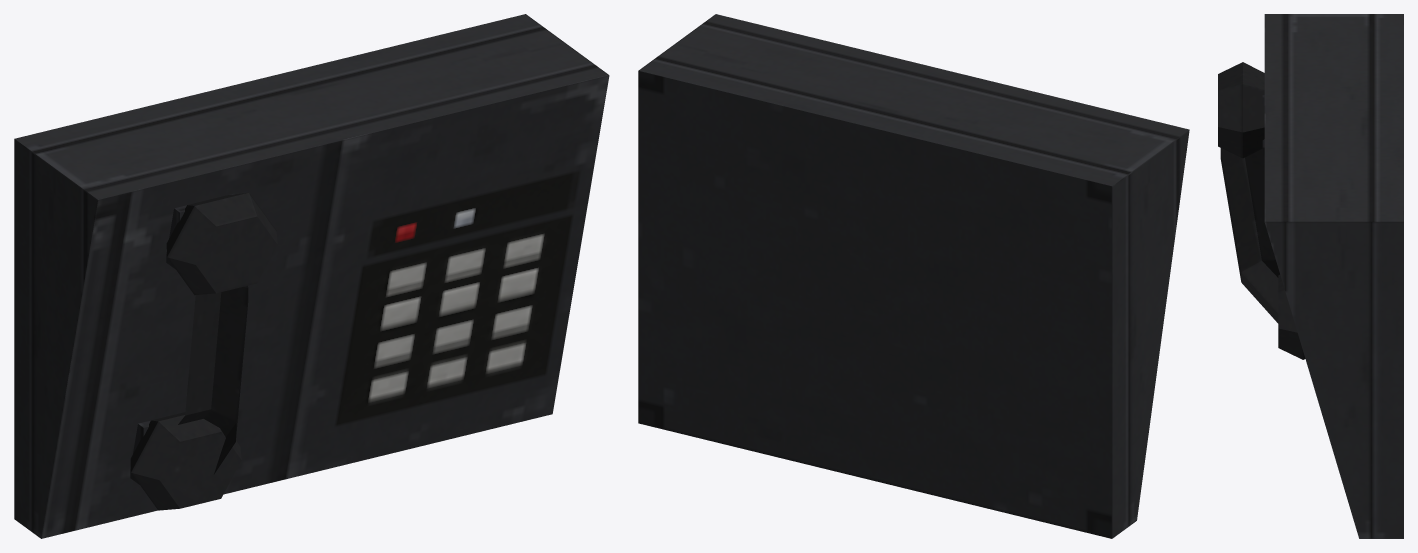
Rendered from pz_phone_modern_black.obj.
3 views of the same model, side by side, from view 1: azimuth 30°, elevation 25°; view 2: azimuth 150°, elevation 25°; view 3: azimuth 270°, elevation 25° (orthographic). The views are drawn at different scales.
Parts seen in each view (by area): view 1: base, receiver_cup_1, receiver_cup_0, nearly_straight_receiver_grip; view 2: base; view 3: base, nearly_straight_receiver_grip, receiver_cup_1, receiver_cup_0.
Part boxes in pixels (x1,y1,x2,y2): base: (14,14,609,538); receiver_cup_1: (166,192,277,295); receiver_cup_0: (130,412,241,510); nearly_straight_receiver_grip: (178,285,248,474); base: (638,14,1189,538); base: (1264,14,1403,538); nearly_straight_receiver_grip: (1220,147,1279,323); receiver_cup_1: (1218,62,1264,158); receiver_cup_0: (1278,275,1305,359).
Size of the model in its own units: 0.374 by 0.266 by 0.1414.
1 material, 1 textured.
